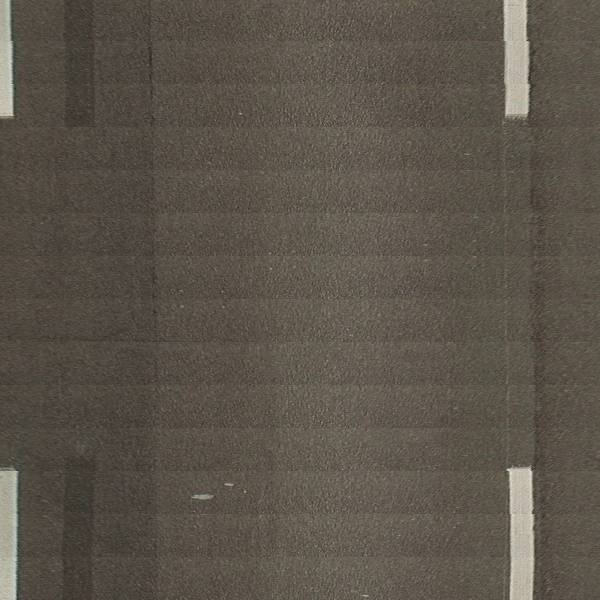road_damage: (139, 123, 166, 365)
